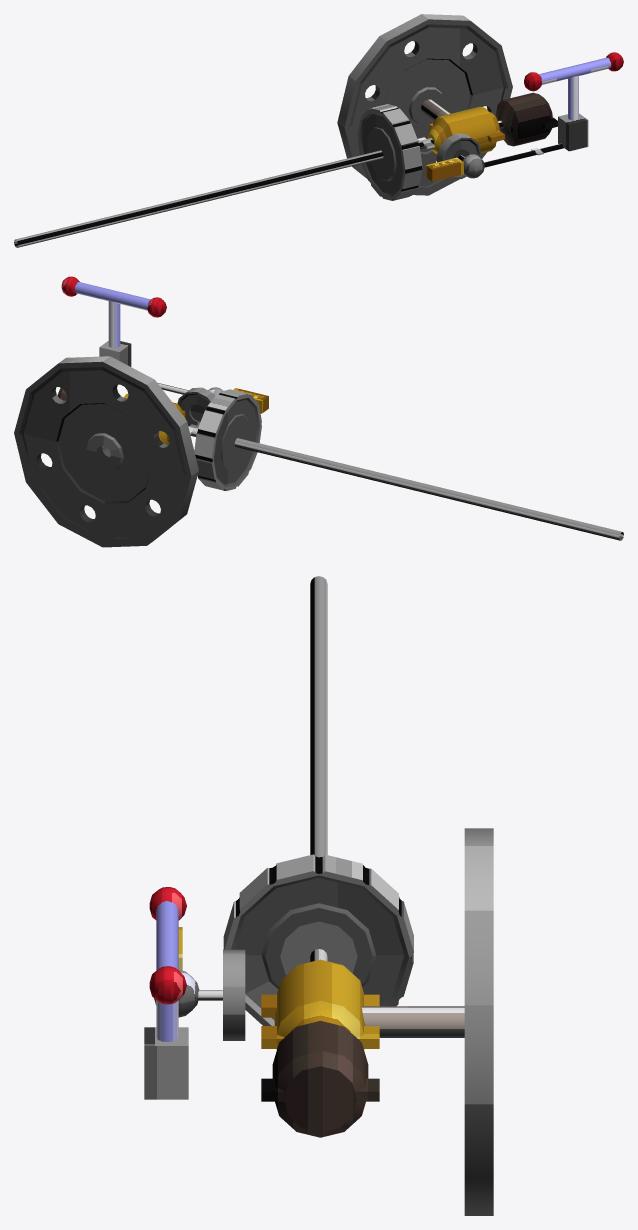
File: mechanismx00.gltf
The picture shows the model from 3 angles, top to bottom: view 1: azimuth 30°, elevation 25°; view 2: azimuth 150°, elevation 25°; view 3: azimuth 270°, elevation 25°; orthographic projection. The views are drawn at different scales.
Visible parts, largest first — view 1: mechanismx00; view 2: mechanismx00; view 3: mechanismx00.
Part boxes in pixels (x1=…): mechanismx00: x1=14, y1=14, x2=623, y2=247; mechanismx00: x1=14, y1=276, x2=623, y2=547; mechanismx00: x1=144, y1=576, x2=493, y2=1215.
Size of the model in its own units: 16.34 by 4.84 by 4.35.
4 materials, 4 textured.
